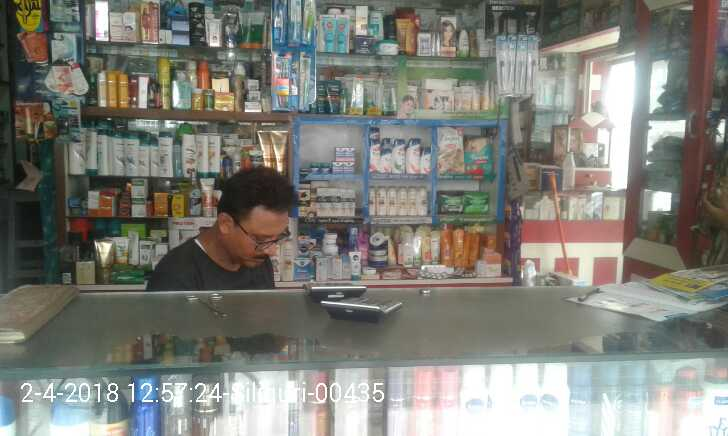oralcare: (270, 1, 310, 111)
vicks: (310, 144, 354, 176)
